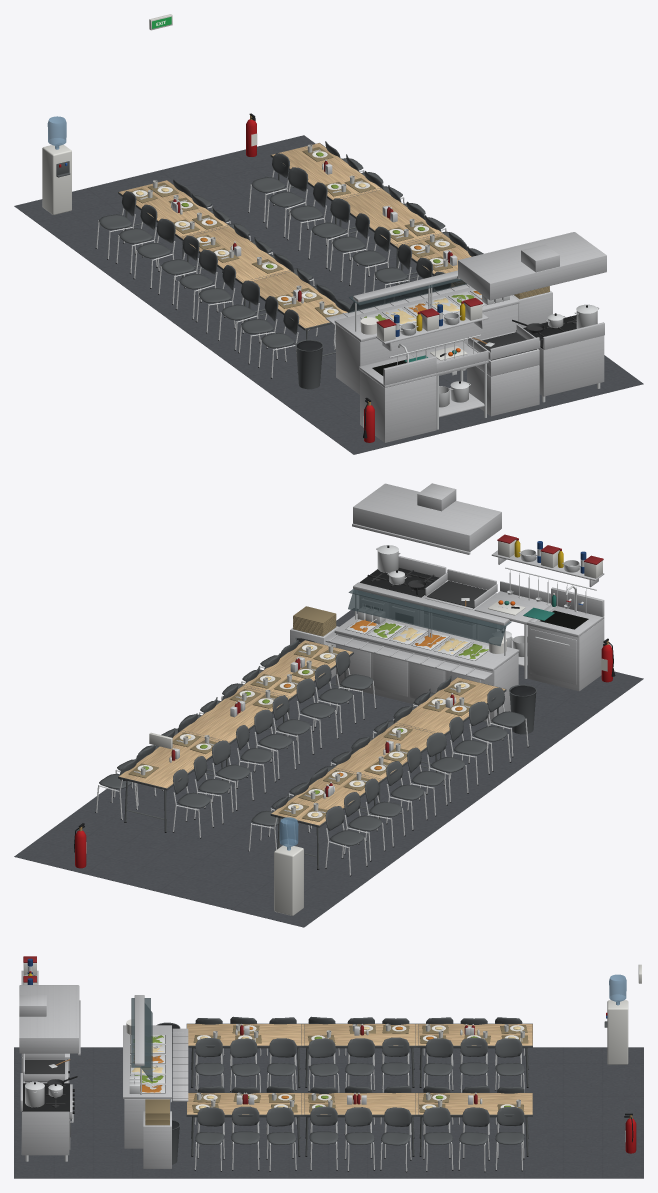
Rendered from series-4-fitout.glb.
The picture shows the model from 3 angles, top to bottom: view 1: azimuth 30°, elevation 25°; view 2: azimuth 150°, elevation 25°; view 3: azimuth 270°, elevation 25°; orthographic projection. The views are drawn at different scales.
Visible parts, largest first — view 1: SERIES4_fitout; view 2: SERIES4_fitout; view 3: SERIES4_fitout.
Boxes of the visible parts, x1,y1,x2,y2 form: SERIES4_fitout: (14, 14, 643, 454); SERIES4_fitout: (14, 483, 643, 927); SERIES4_fitout: (14, 956, 643, 1178).
Bounding box in the file's own units: 4.76 × 2.43 × 9.65.
Materials: 31 (8 with a texture image).
